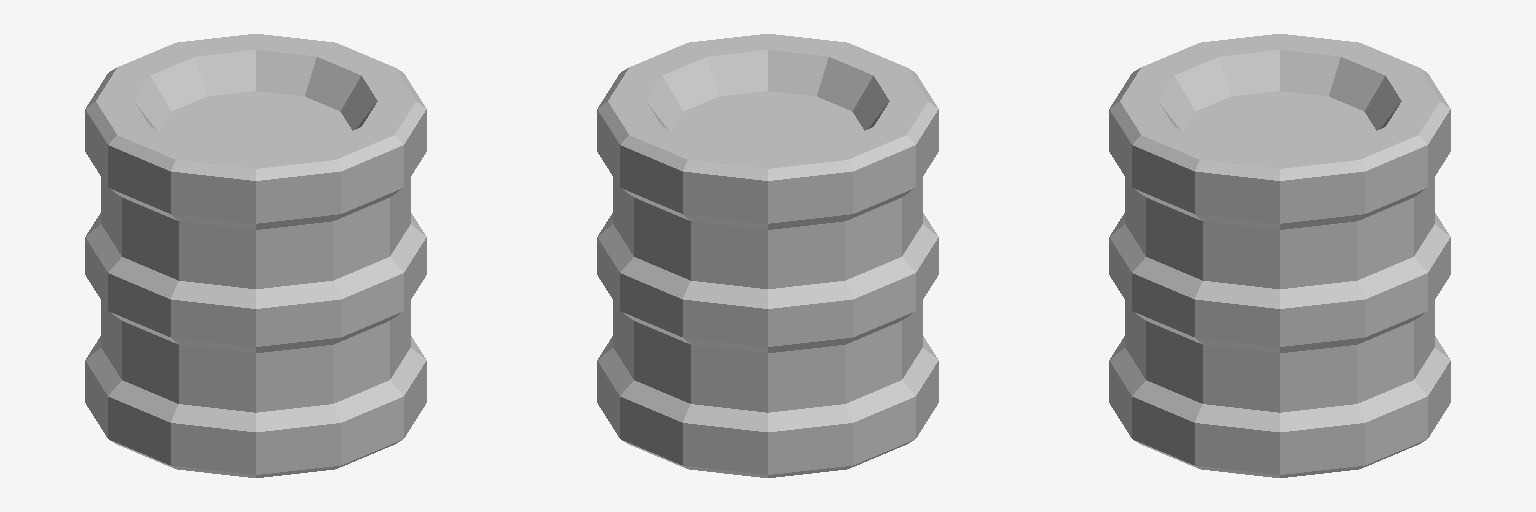
File: Barrel_A.obj
3 renders of one model, left to right at view 1: azimuth 30°, elevation 25°; view 2: azimuth 150°, elevation 25°; view 3: azimuth 270°, elevation 25°, orthographic.
Parts seen in each view (by area): view 1: Barrel_A_Cylinder.020; view 2: Barrel_A_Cylinder.020; view 3: Barrel_A_Cylinder.020.
Boxes of the visible parts, x1=… form: Barrel_A_Cylinder.020: x1=85, y1=34, x2=426, y2=477; Barrel_A_Cylinder.020: x1=597, y1=34, x2=938, y2=477; Barrel_A_Cylinder.020: x1=1109, y1=34, x2=1450, y2=477.
Bounding box in the file's own units: 1 × 1 × 1.